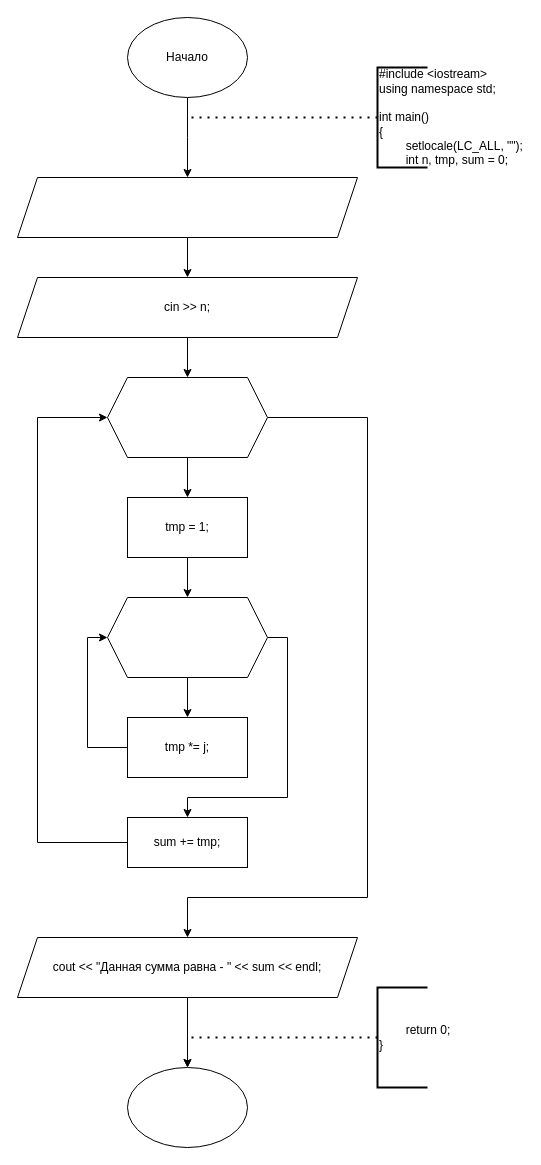
Image size: 541x1165. Some labels were removed from this diagram. The centre of each missing label's shape, as x and y in pixels:
cout << "Введите число: \n";: [187,207]
for (int i = 1; i <= n; i++): [187,417]
for (int j = i; j <= 2 * i; j++): [187,637]
Конец: [187,1107]
